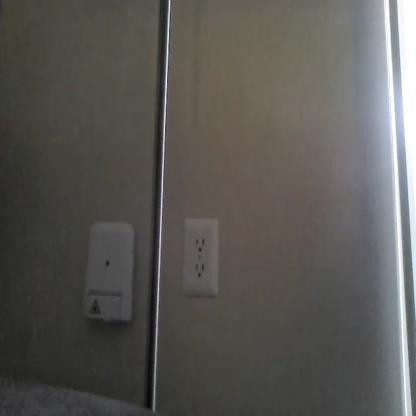OUTLET: (182, 216, 219, 296)
